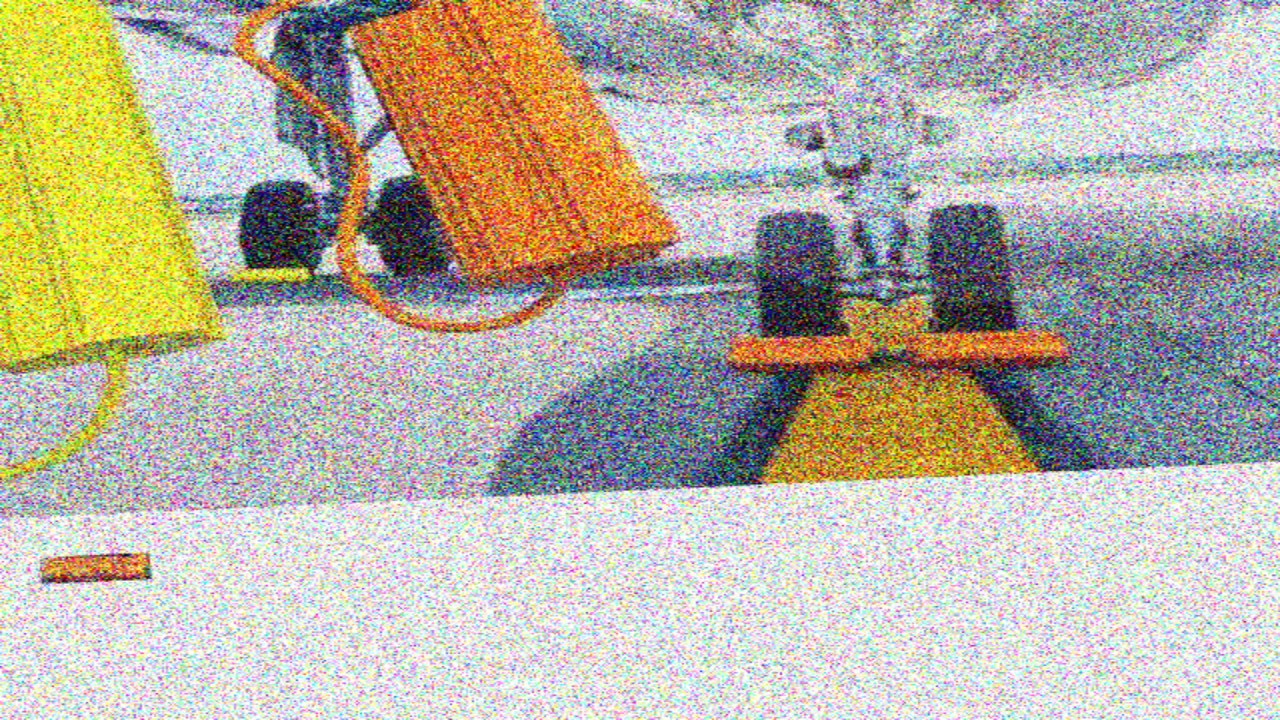chock: (340, 0, 695, 297), (0, 0, 228, 386), (902, 322, 1076, 375), (720, 331, 878, 375), (39, 552, 152, 584), (223, 263, 315, 287)
wheel: (924, 202, 1020, 334), (749, 210, 845, 340), (238, 174, 330, 276), (370, 170, 457, 273)
